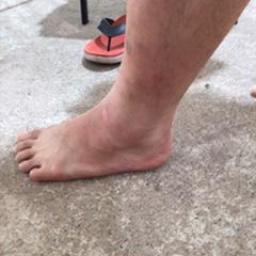Lateral View -Left Foot-: (8, 72, 200, 196)
